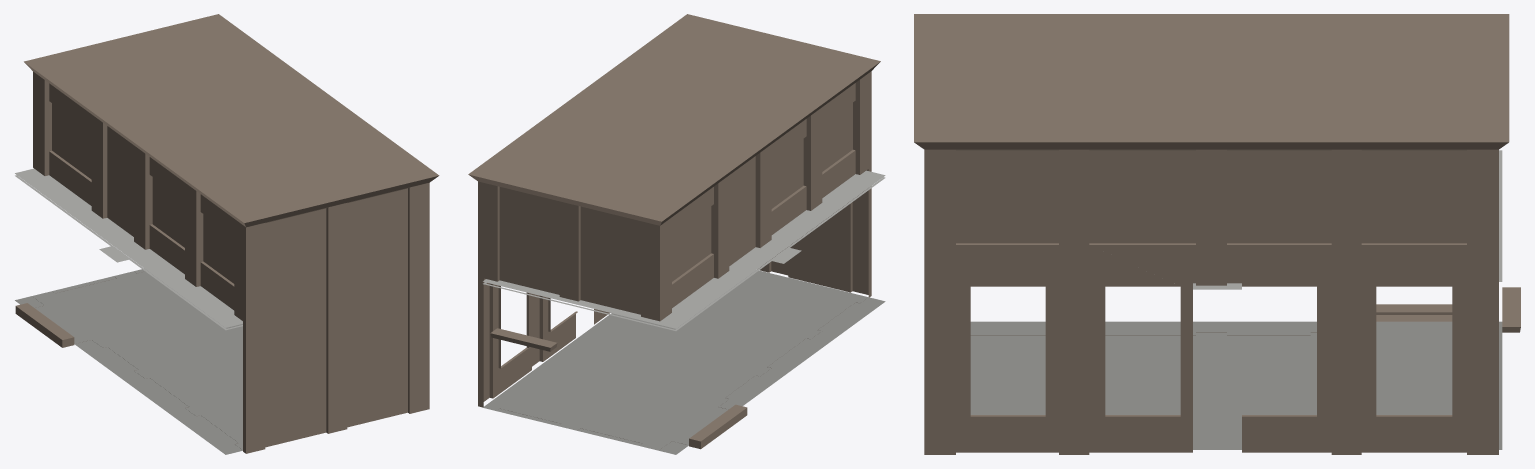
Rendered from factory-hall.access-v9.lod2.glb.
3 renders of one model, left to right at view 1: azimuth 30°, elevation 25°; view 2: azimuth 150°, elevation 25°; view 3: azimuth 270°, elevation 25°, orthographic. The views are drawn at different scales.
Parts seen in each view (by area): view 1: factory_1_factory_1_0; view 2: factory_1_factory_1_0; view 3: factory_1_factory_1_0.
Boxes of the visible parts, left/top/right/bottom form: factory_1_factory_1_0: left=15, top=14, right=439, bottom=454; factory_1_factory_1_0: left=468, top=14, right=885, bottom=454; factory_1_factory_1_0: left=914, top=14, right=1520, bottom=454.
Size of the model in its own units: 14.6 by 14.96 by 26.
